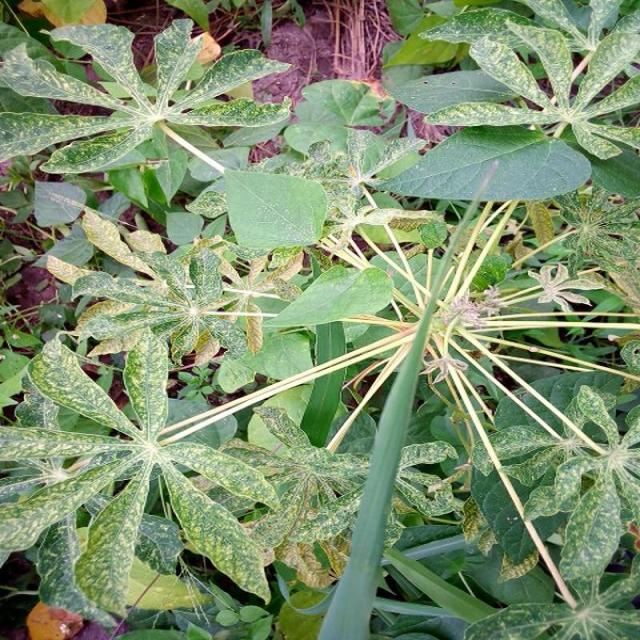cassava leaf: (2, 2, 639, 637), (365, 122, 593, 202), (224, 166, 329, 250)
